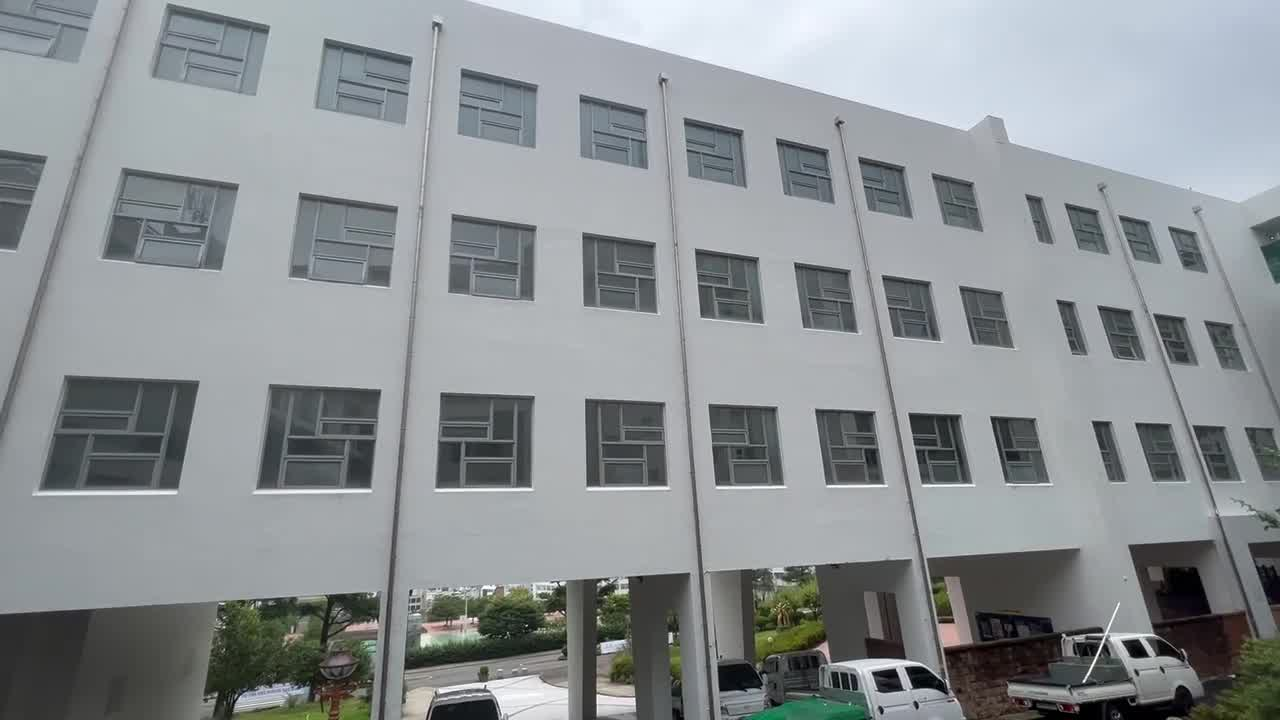medium: (30, 22, 1263, 529)
